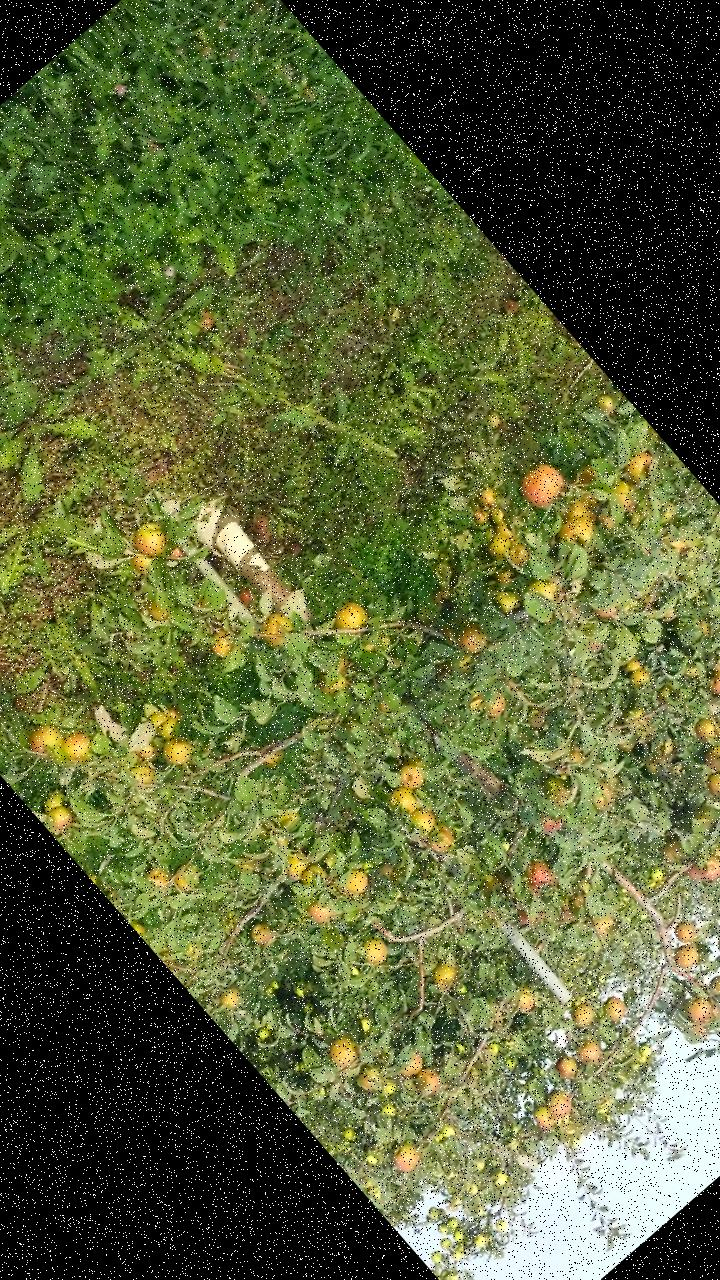Apple: (514, 454, 572, 512), (550, 508, 606, 566), (562, 460, 614, 512), (312, 653, 364, 703), (253, 608, 300, 655), (522, 566, 567, 612), (560, 496, 606, 540), (386, 1132, 430, 1176), (331, 599, 374, 642), (382, 780, 424, 823), (130, 519, 172, 562), (422, 818, 464, 859), (27, 718, 68, 759), (206, 624, 246, 666), (622, 447, 662, 488), (158, 730, 199, 770), (322, 1033, 362, 1072), (585, 776, 624, 814), (167, 858, 205, 896), (58, 728, 96, 766), (393, 760, 430, 799), (296, 859, 334, 896), (604, 479, 641, 517), (359, 935, 396, 972), (668, 940, 704, 976), (597, 991, 633, 1027), (427, 954, 463, 990), (455, 621, 491, 657), (126, 756, 162, 791), (127, 546, 162, 581), (522, 856, 556, 892), (444, 648, 479, 682), (489, 584, 523, 619), (253, 738, 288, 772), (592, 385, 627, 419), (572, 1036, 606, 1070), (476, 870, 510, 904), (342, 866, 376, 900), (142, 863, 176, 897), (43, 801, 77, 835), (38, 788, 72, 822), (545, 1084, 578, 1118), (396, 1050, 430, 1082), (140, 594, 172, 628), (568, 999, 600, 1032), (216, 982, 248, 1015), (436, 618, 468, 651), (482, 532, 515, 564), (682, 994, 714, 1026), (622, 701, 654, 733), (263, 826, 295, 858), (363, 630, 396, 661), (413, 1066, 444, 1098), (408, 806, 440, 837), (503, 539, 534, 571), (491, 516, 522, 548), (305, 899, 336, 930), (155, 712, 186, 743), (246, 918, 277, 948), (481, 692, 512, 722), (282, 854, 313, 884), (134, 739, 165, 769), (670, 916, 700, 946), (588, 910, 618, 940), (644, 750, 674, 780), (658, 836, 687, 865), (651, 733, 680, 762), (536, 808, 565, 837), (474, 485, 503, 512), (696, 995, 719, 1028), (274, 806, 302, 833), (492, 561, 520, 588), (430, 583, 458, 610), (430, 556, 457, 584), (694, 714, 719, 744), (486, 500, 513, 527), (554, 1056, 582, 1082), (180, 938, 206, 965), (515, 904, 541, 930), (620, 655, 646, 681), (468, 504, 494, 530), (565, 742, 590, 768), (525, 708, 551, 733), (594, 508, 619, 534), (701, 742, 719, 777), (627, 666, 653, 690), (697, 856, 719, 884), (532, 1107, 556, 1132), (669, 533, 694, 557), (166, 542, 191, 566), (702, 768, 719, 802), (567, 890, 591, 914), (596, 598, 620, 622), (464, 690, 488, 714), (685, 861, 708, 885), (356, 1068, 379, 1092), (704, 840, 719, 876), (376, 860, 399, 883), (690, 1020, 712, 1042), (585, 637, 607, 659), (238, 855, 260, 877), (706, 969, 719, 1006), (130, 916, 151, 938), (148, 708, 170, 729), (168, 703, 188, 724), (706, 667, 719, 699), (680, 662, 700, 682), (711, 928, 719, 960)
